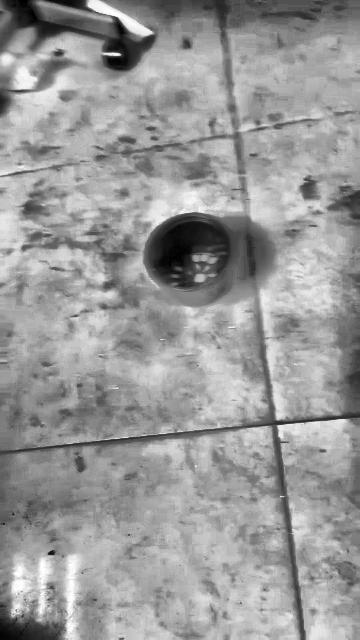pot: (144, 214, 238, 306)
